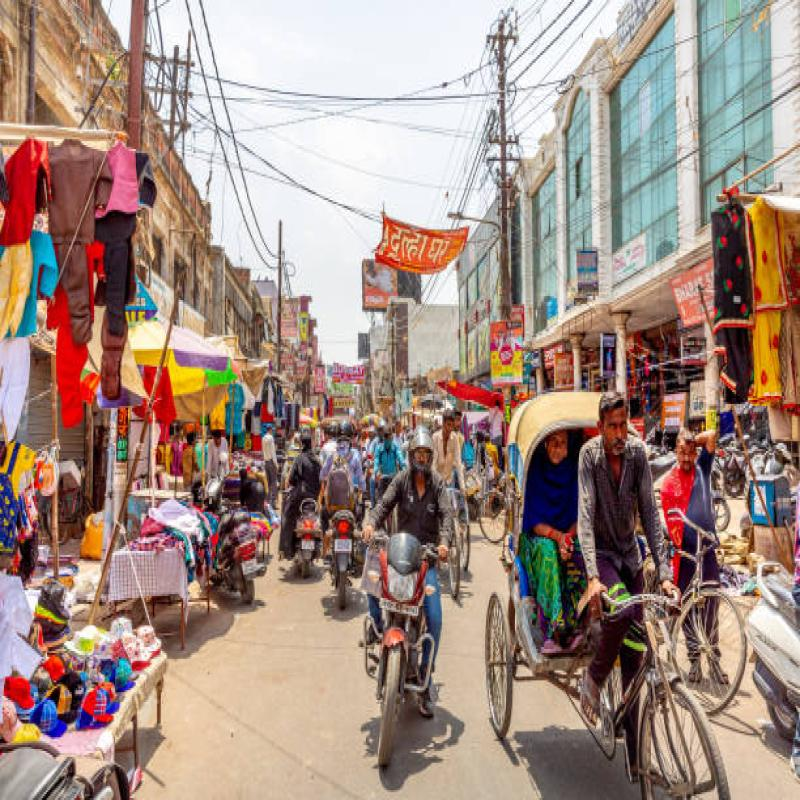bike: (373, 546, 442, 727), (200, 518, 254, 604), (280, 501, 333, 560), (322, 508, 359, 592)
